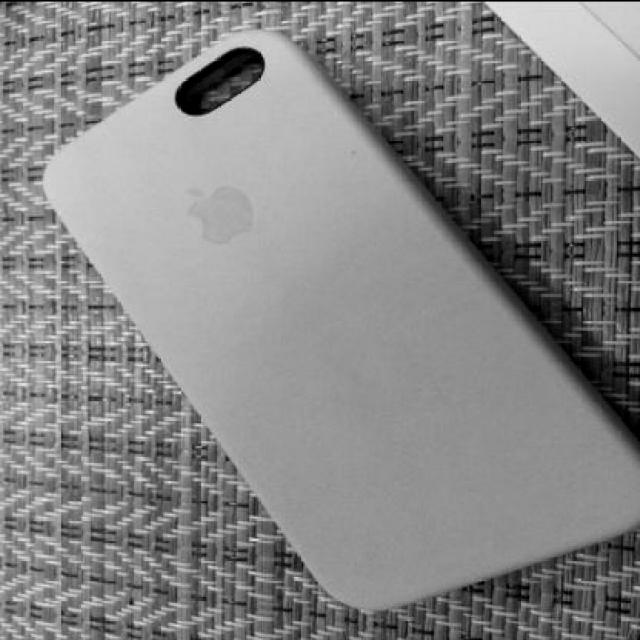fake: (40, 26, 640, 612)
